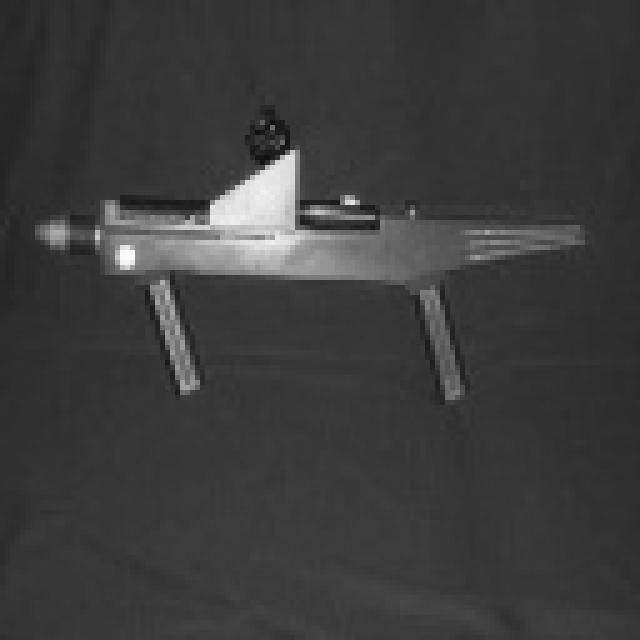Rifle: (17, 84, 597, 446)
